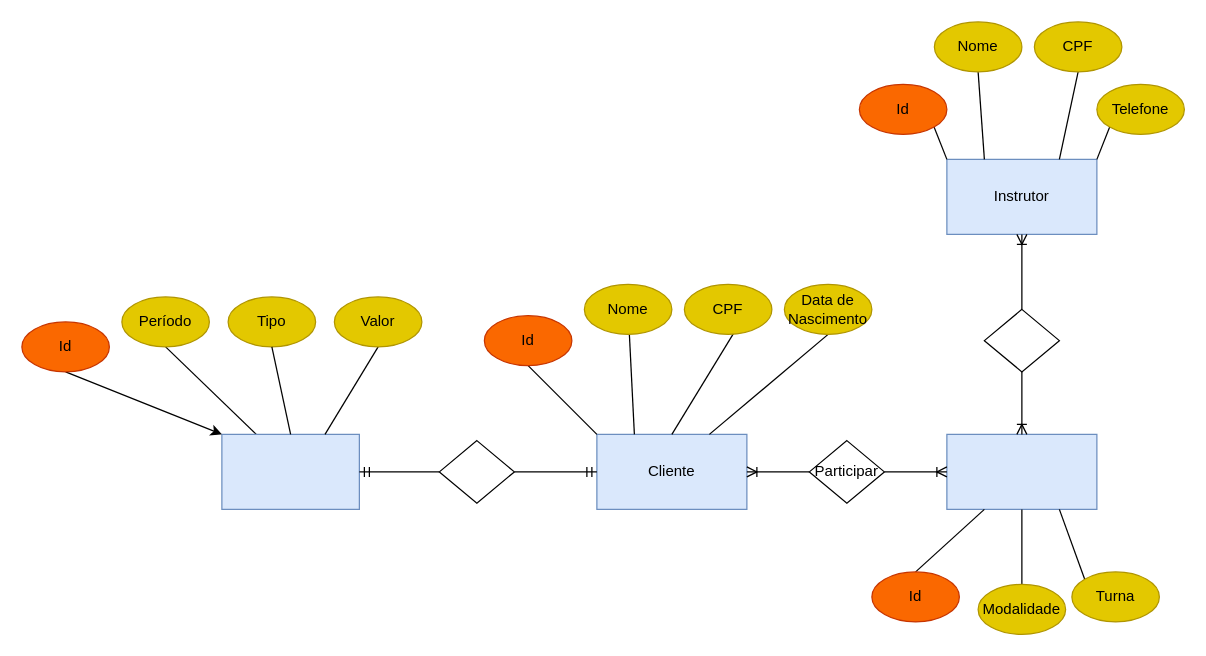
Some shapes in this 1206 by 656 pixel diagram are drawn without their labels. The centre of each missing label's shape, as x and y in pixels:
"Atividade Física" goes at point (1021, 471).
"Ministrar" goes at point (1021, 340).
"Plano de Assinatura" goes at point (290, 471).
"Possuir" goes at point (476, 471).
